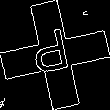P_S: (31, 26, 79, 84)
